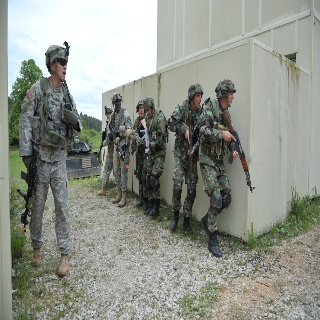rifle: (219, 108, 258, 195), (16, 117, 42, 232), (138, 115, 156, 160), (186, 110, 194, 170)
